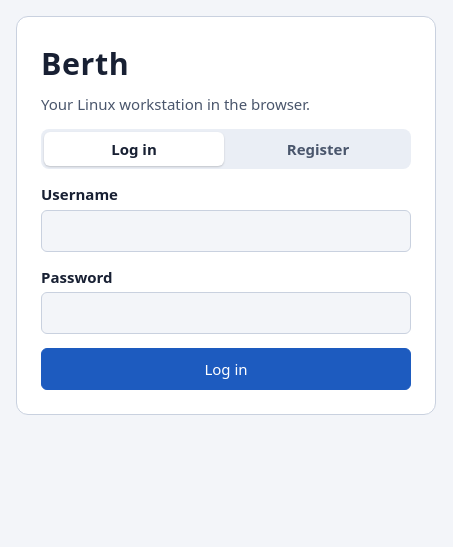
Scenario: switching tabs starts clean › "username taken" does not follow the user back to Log in
This screenshot has width=453, height=547.
Step 1. Click the tab "Register" → (318, 149), box [228, 132, 408, 166]
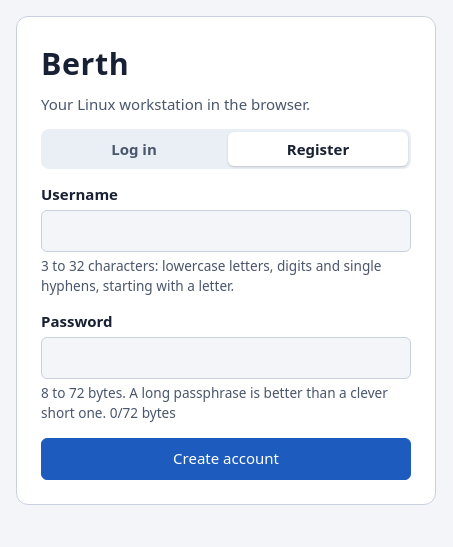
Step 2. Type "alice" into the field labelled "Username" → (226, 231), box [41, 210, 411, 252]
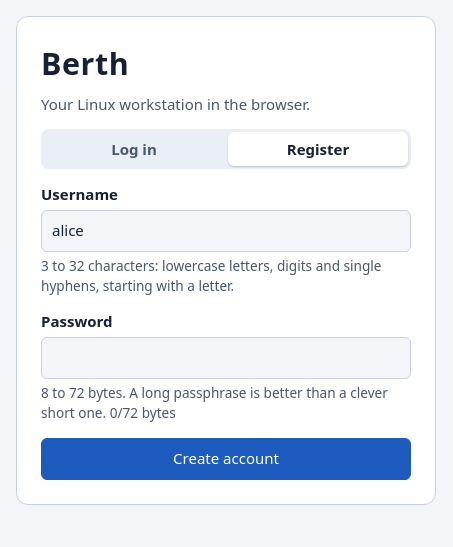
Step 3. Type "correct horse" into the password field labelled "Password" → (226, 358), box [41, 337, 411, 379]
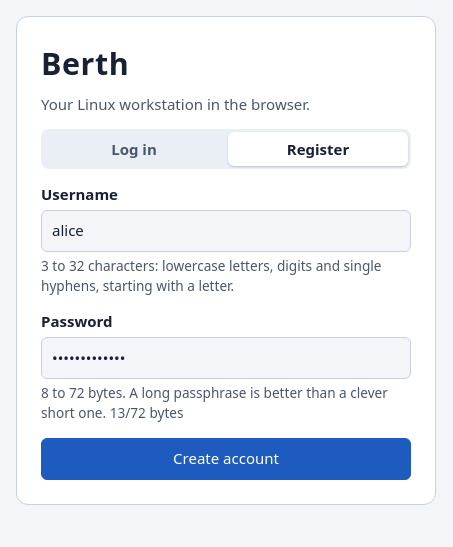
Step 4. Submit the form labelled "Username", box [41, 183, 411, 480]
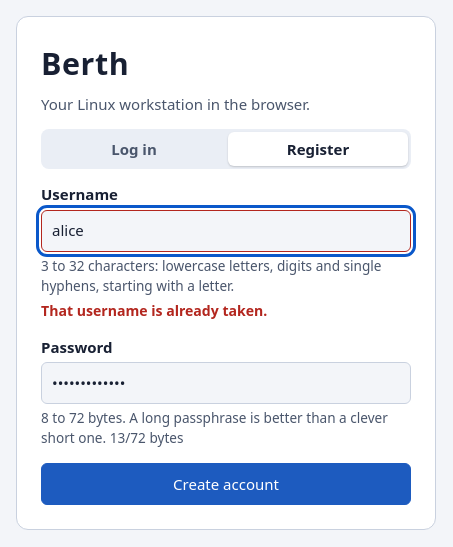
expect the text "That username is already taken." is shown: met, box [41, 301, 267, 320]
Step 5. Click the tab "Log in" → (134, 149), box [44, 132, 224, 166]
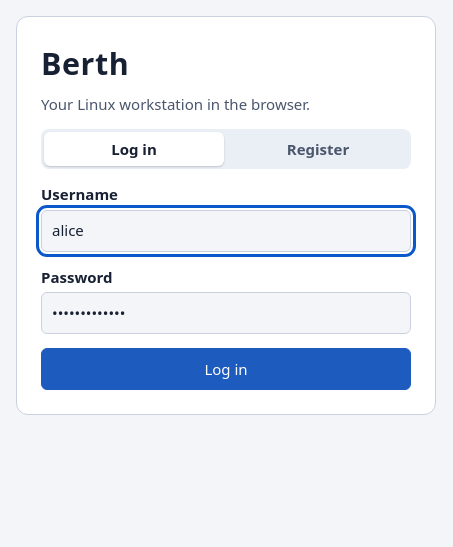
expect the text "That username is already taken." is gone: met
